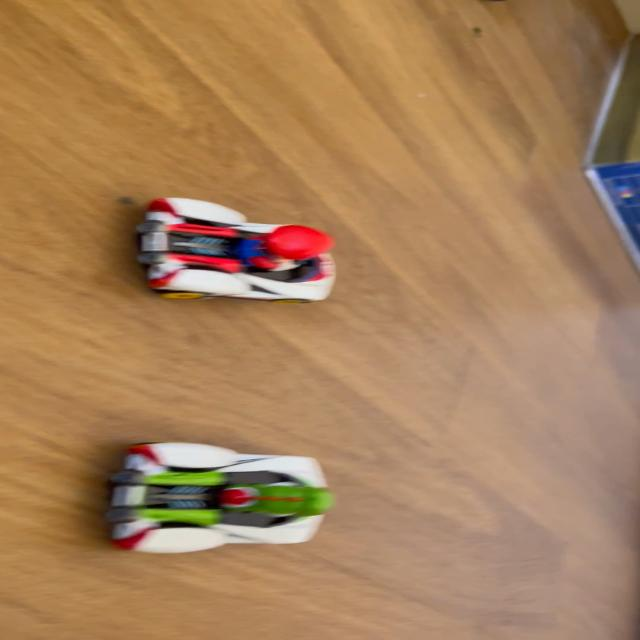mario: (117, 196, 363, 314)
yoshi: (81, 438, 355, 565)
